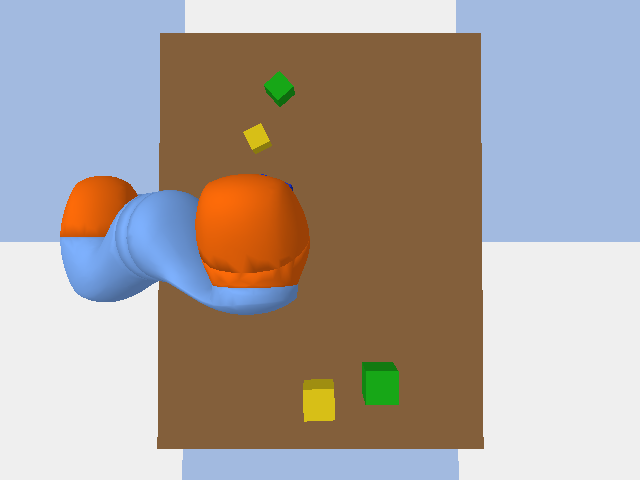blue_obj: (261, 174, 292, 190)
green_obj: (362, 362, 398, 404), (264, 71, 294, 106)
yellow_obj: (303, 379, 334, 421), (243, 123, 271, 153)
